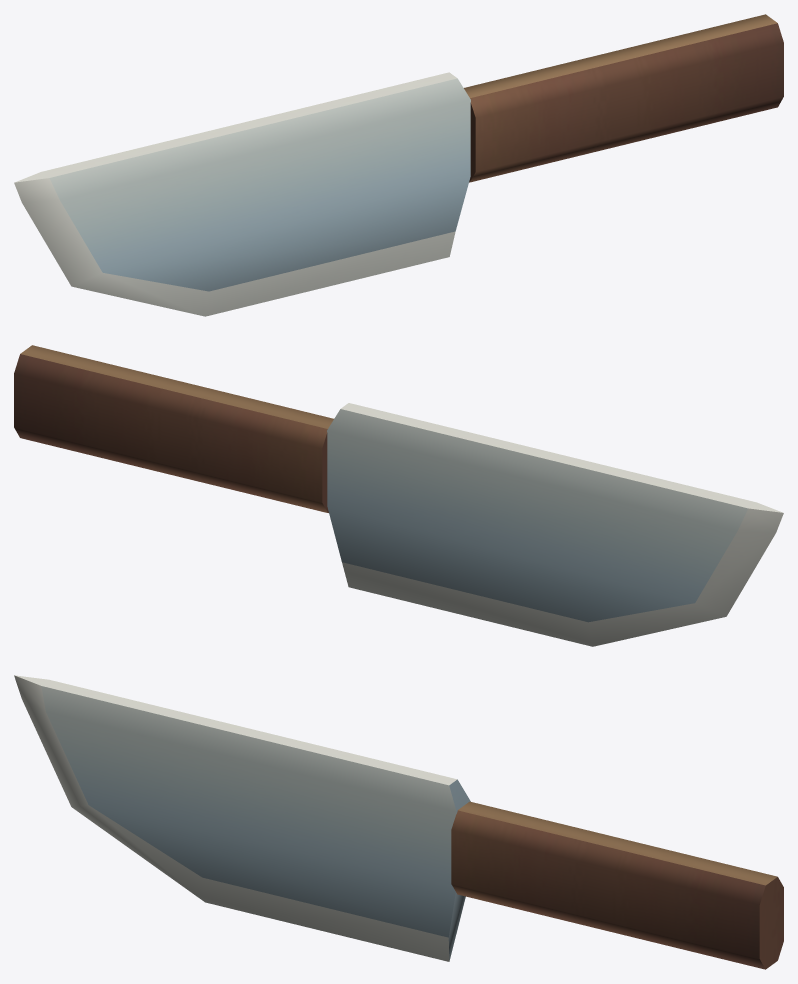
The model's file is knife.fbx.
3 views of the same model, one above another, from view 1: azimuth 30°, elevation 25°; view 2: azimuth 150°, elevation 25°; view 3: azimuth 330°, elevation 25° (orthographic).
Parts seen in each view (by area): view 1: knife; view 2: knife; view 3: knife.
Boxes of the visible parts, x1=… form: knife: x1=14, y1=14, x2=783, y2=316; knife: x1=14, y1=345, x2=783, y2=646; knife: x1=14, y1=675, x2=783, y2=969.
Size of the model in its own units: 40.5 by 9.22 by 2.27.
